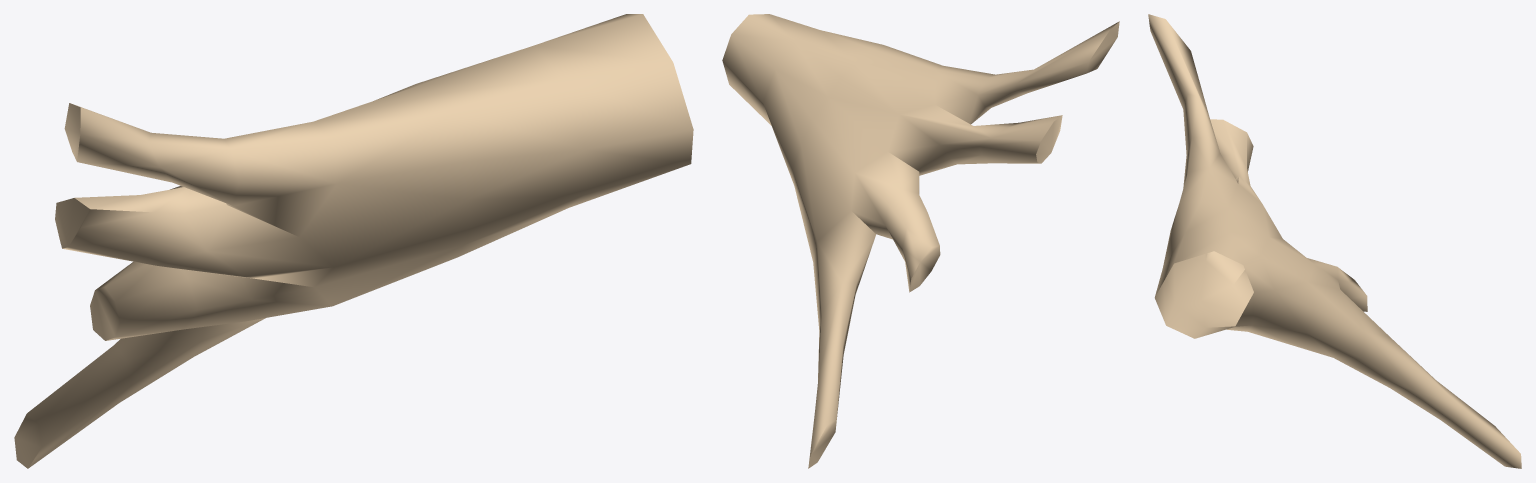
Rendered from L_B_Glossopharyngeal_Nerve01.fbx.
3 renders of one model, left to right at view 1: azimuth 30°, elevation 25°; view 2: azimuth 150°, elevation 25°; view 3: azimuth 270°, elevation 25°, orthographic. The views are drawn at different scales.
Visible parts, largest first — view 1: L_B_Glossopharyngeal_Nerve; view 2: L_B_Glossopharyngeal_Nerve; view 3: L_B_Glossopharyngeal_Nerve.
Part boxes in pixels (x1=…): L_B_Glossopharyngeal_Nerve: x1=14, y1=14, x2=693, y2=468; L_B_Glossopharyngeal_Nerve: x1=722, y1=14, x2=1119, y2=468; L_B_Glossopharyngeal_Nerve: x1=1148, y1=14, x2=1521, y2=468.
Bounding box in the file's own units: 0.3682 × 0.3564 × 0.3156.
